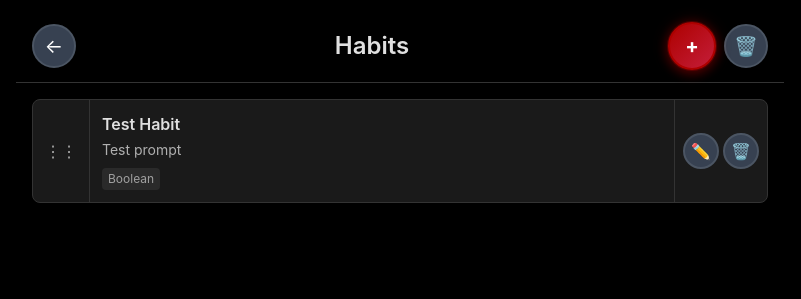
Test: HabitManager › should show edit form when Edit button is clicked
The width and height of the screenshot is (801, 299).
Expected: the heading "Test Habit" is shown, x1=102 y1=114 x2=180 y2=134
Click the button named "Edit habit" at [701, 151], box x1=683 y1=133 x2=719 y2=169
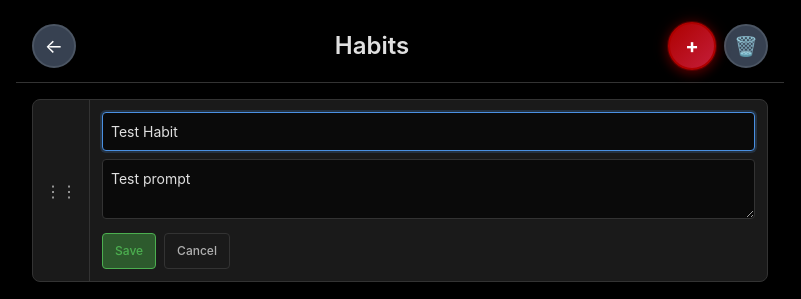
Expected: the field showing "Test Habit" is shown, x1=102 y1=112 x2=755 y2=151
Expected: the text box showing "Test prompt" is shown, x1=102 y1=159 x2=755 y2=219
Expected: the button "Save" is shown, x1=102 y1=233 x2=156 y2=269
